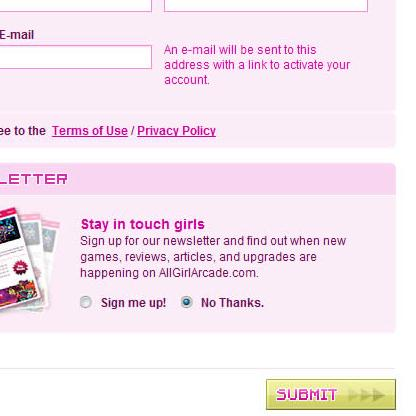button: (264, 377, 398, 411)
radio: (180, 294, 196, 311), (77, 295, 96, 309)
radio_with_label: (176, 290, 263, 314), (73, 291, 167, 310)
